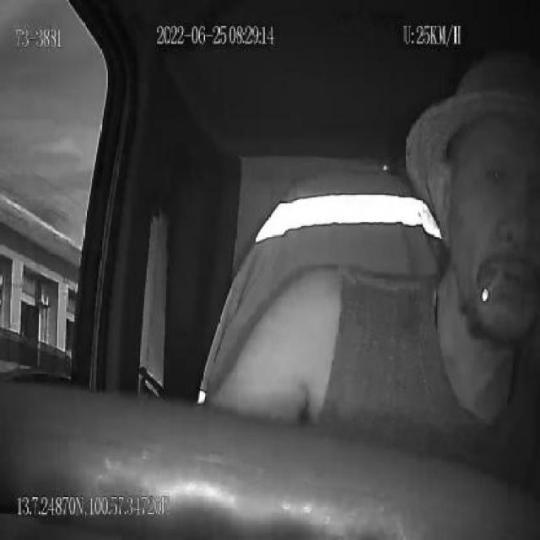smoking: (481, 262, 505, 309)
